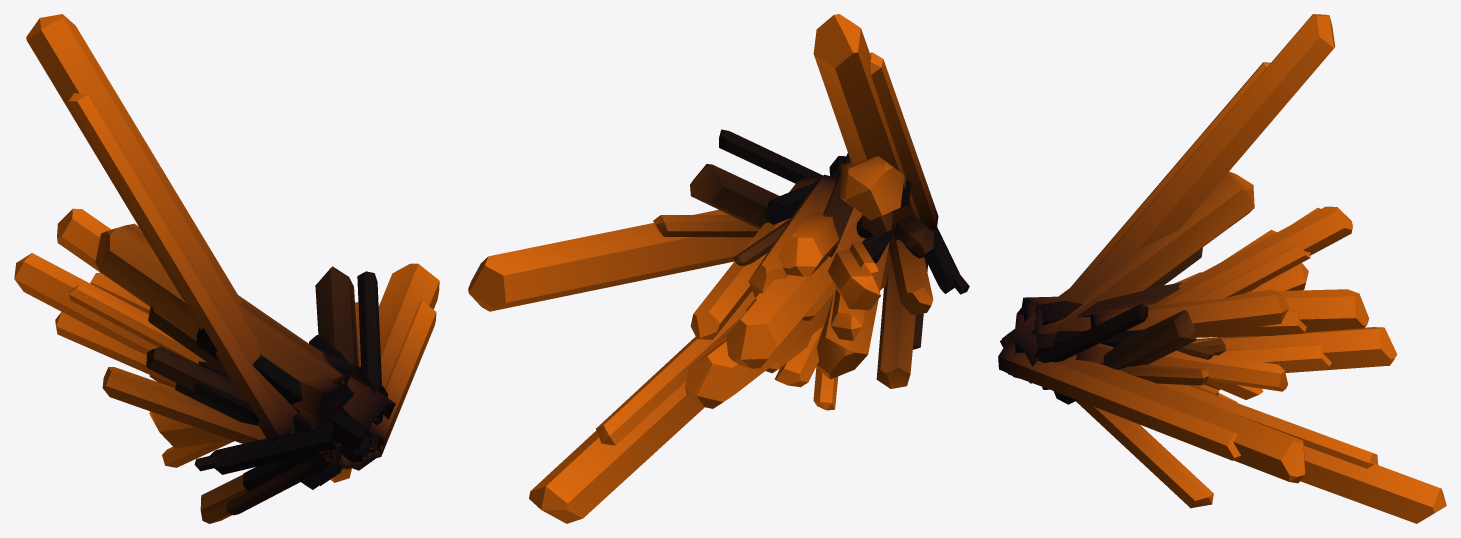
Rendered from Crystal_02.FBX.
3 views of the same model, side by side, from view 1: azimuth 30°, elevation 25°; view 2: azimuth 150°, elevation 25°; view 3: azimuth 270°, elevation 25° (orthographic). The views are drawn at different scales.
Visible parts, largest first — view 1: Crystal_02; view 2: Crystal_02; view 3: Crystal_02.
Boxes of the visible parts, <box> form: Crystal_02: <box>14,14,439,523</box>; Crystal_02: <box>468,14,969,523</box>; Crystal_02: <box>998,14,1446,523</box>.
Bounding box in the file's own units: 95.25 × 109 × 105.
